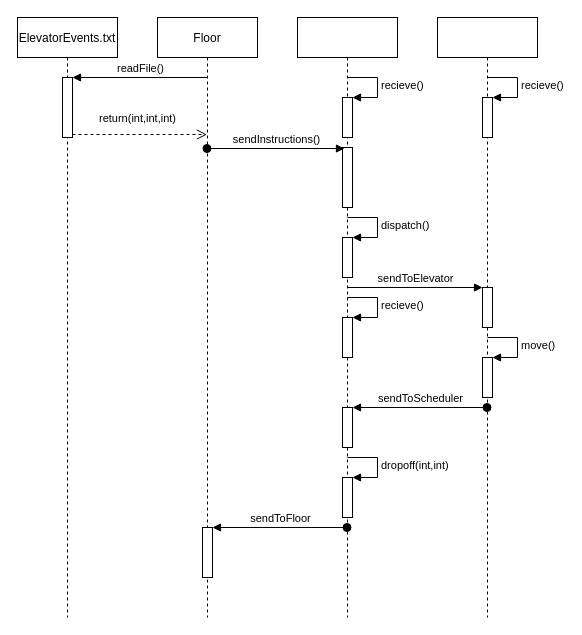
Image size: 582x635. Some labels were removed from this diagram. Here are the shapes that lost their labels. From the top down, the centre of each, then its label:
At (x=347, y=317): "Scheduler".
At (x=487, y=317): "Elevator".
